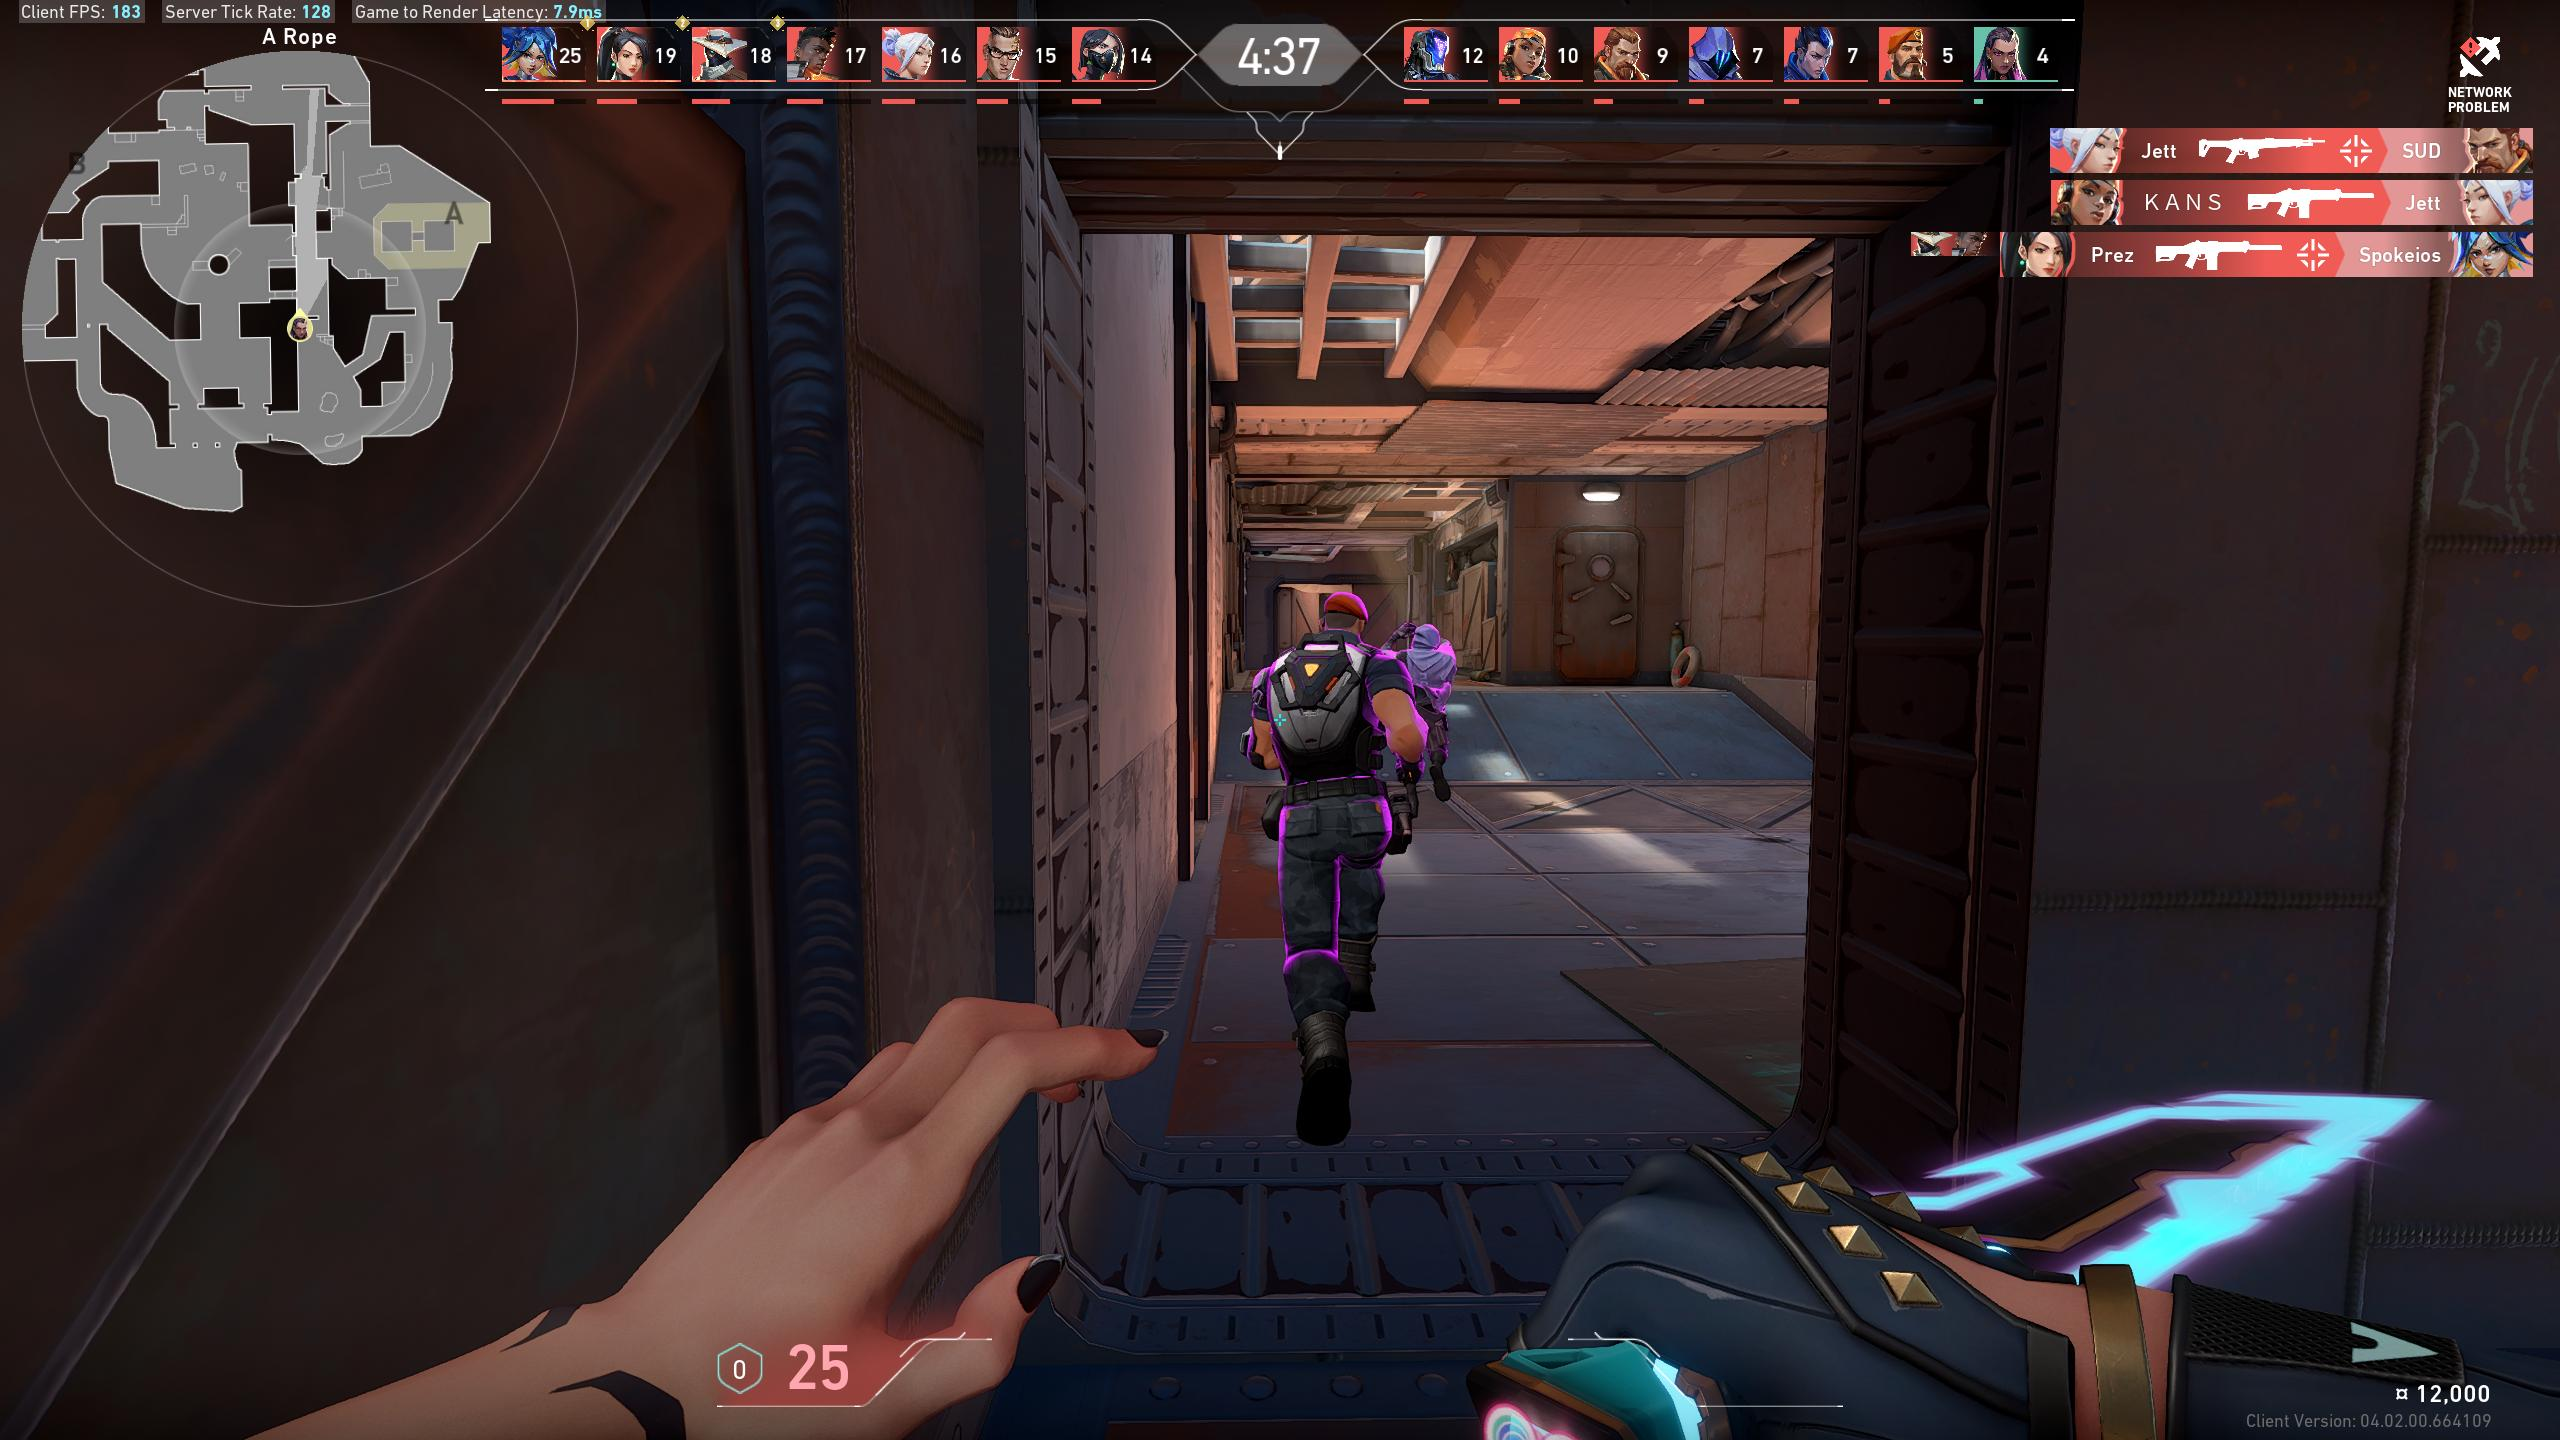enemyBody: (1284, 656, 1350, 798), (1414, 656, 1440, 710)
enemyHead: (1329, 601, 1356, 629), (1417, 628, 1436, 651)
